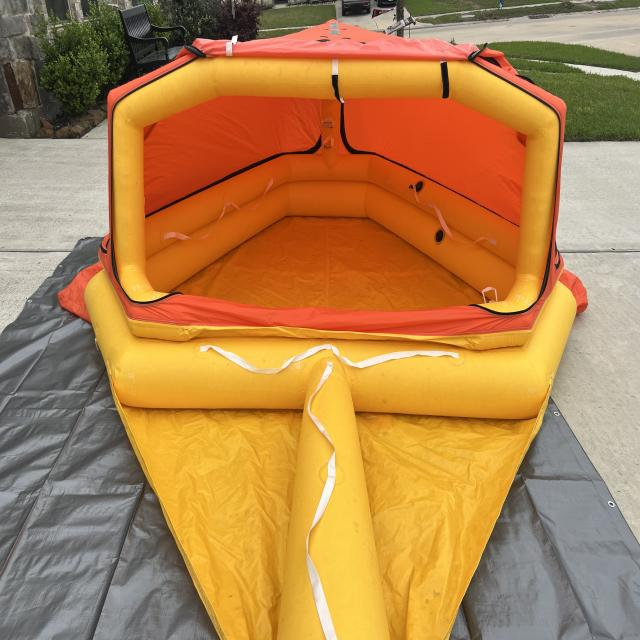Multi-person_life_raft: (58, 17, 587, 639)
